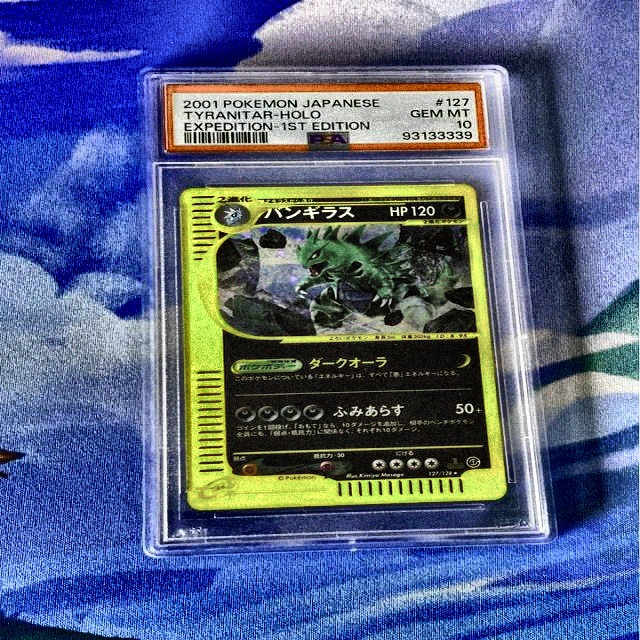card: (180, 184, 507, 511)
